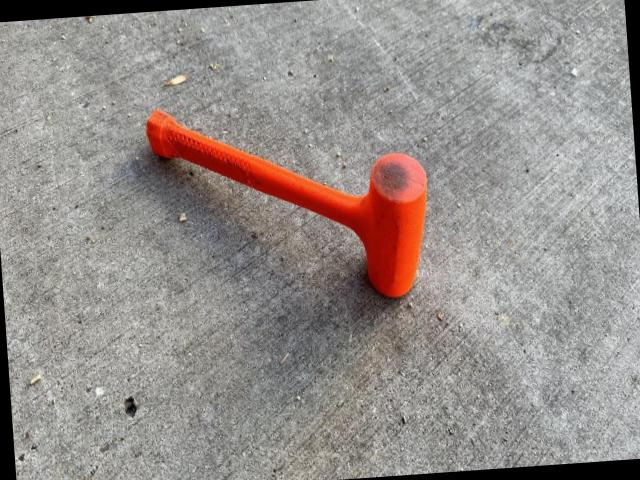hammer: (142, 90, 436, 314)
